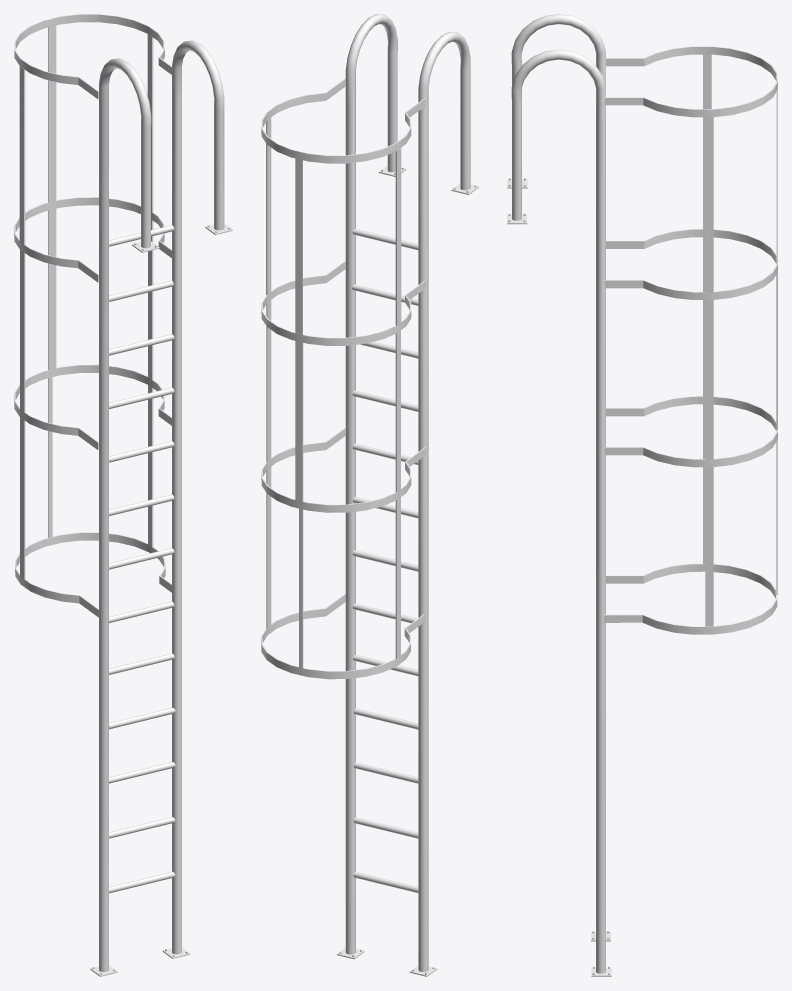
The model's file is escaleras_afuera.obj.
The picture shows the model from 3 angles, left to right: view 1: azimuth 30°, elevation 25°; view 2: azimuth 150°, elevation 25°; view 3: azimuth 270°, elevation 25°; orthographic projection.
Visible parts, largest first — view 1: Group_001, proteccion_003, proteccion_007, proteccion_005, proteccion_001; view 2: Group_001, proteccion_003, proteccion_007, proteccion_001, proteccion_005; view 3: Group_001, proteccion_003, proteccion_007, proteccion_005, proteccion_001.
Boxes of the visible parts, x1,y1,x2,y2 form: Group_001: (19,25,224,971); proteccion_003: (14,14,171,99); proteccion_007: (15,532,171,617); proteccion_005: (14,364,171,449); proteccion_001: (14,197,171,282); Group_001: (266,14,470,971); proteccion_003: (261,78,425,163); proteccion_007: (261,594,425,679); proteccion_001: (261,261,425,345); proteccion_005: (261,428,425,512); Group_001: (511,14,777,973); proteccion_003: (604,46,777,117); proteccion_007: (604,563,777,634); proteccion_005: (604,396,777,467); proteccion_001: (604,229,777,299).
Size of the model in its own units: 35.35 by 238 by 63.39.
Materials: 1 (1 with a texture image).
